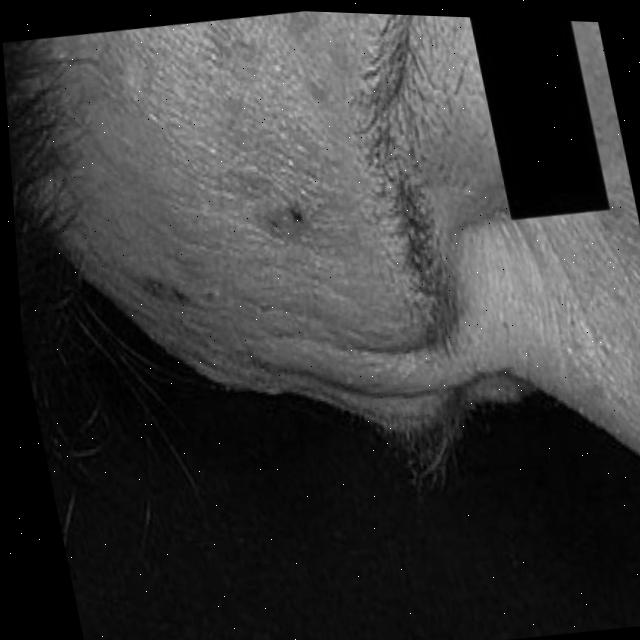Rosacea: (97, 10, 385, 331), (614, 315, 640, 459)
